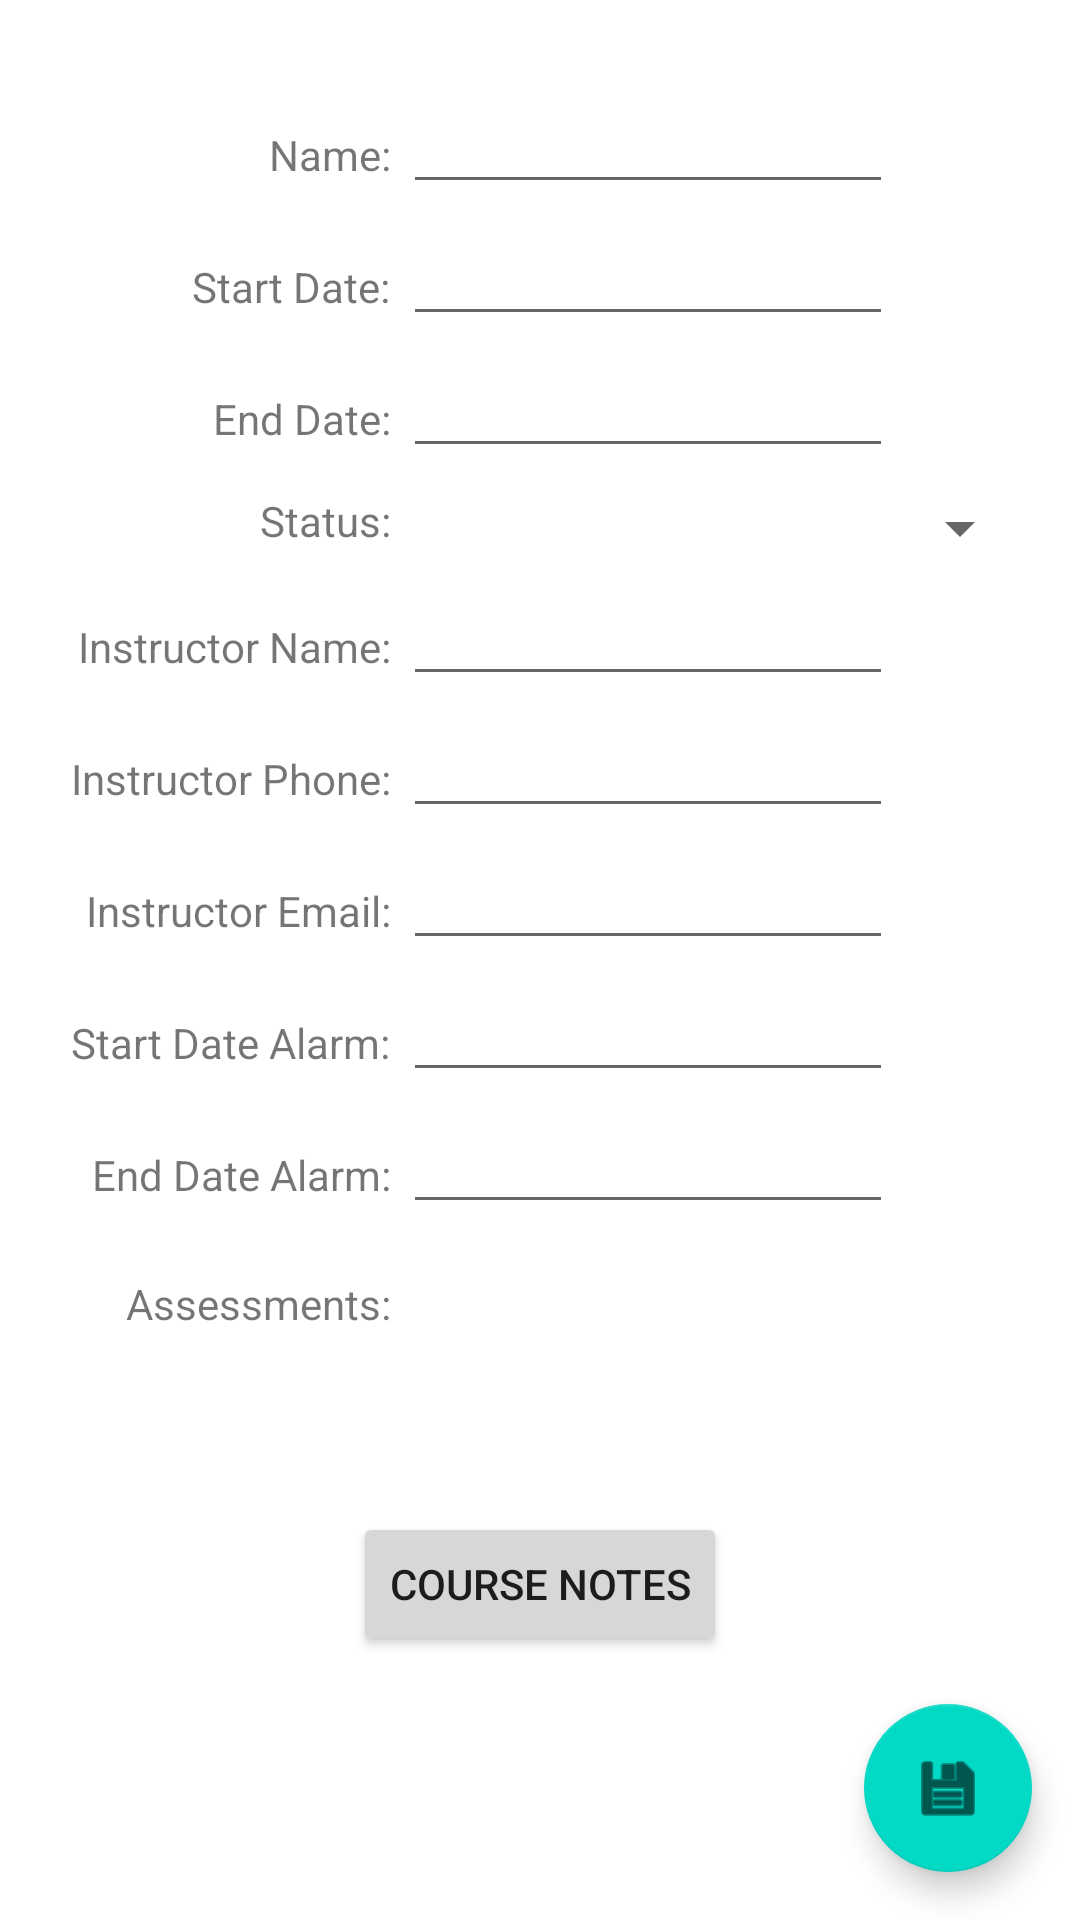

Screen size 1080w x 1920h. Icon name, then its box in pixels as (x1, y1, x2, y2):
save: (864, 1704, 1032, 1872)
